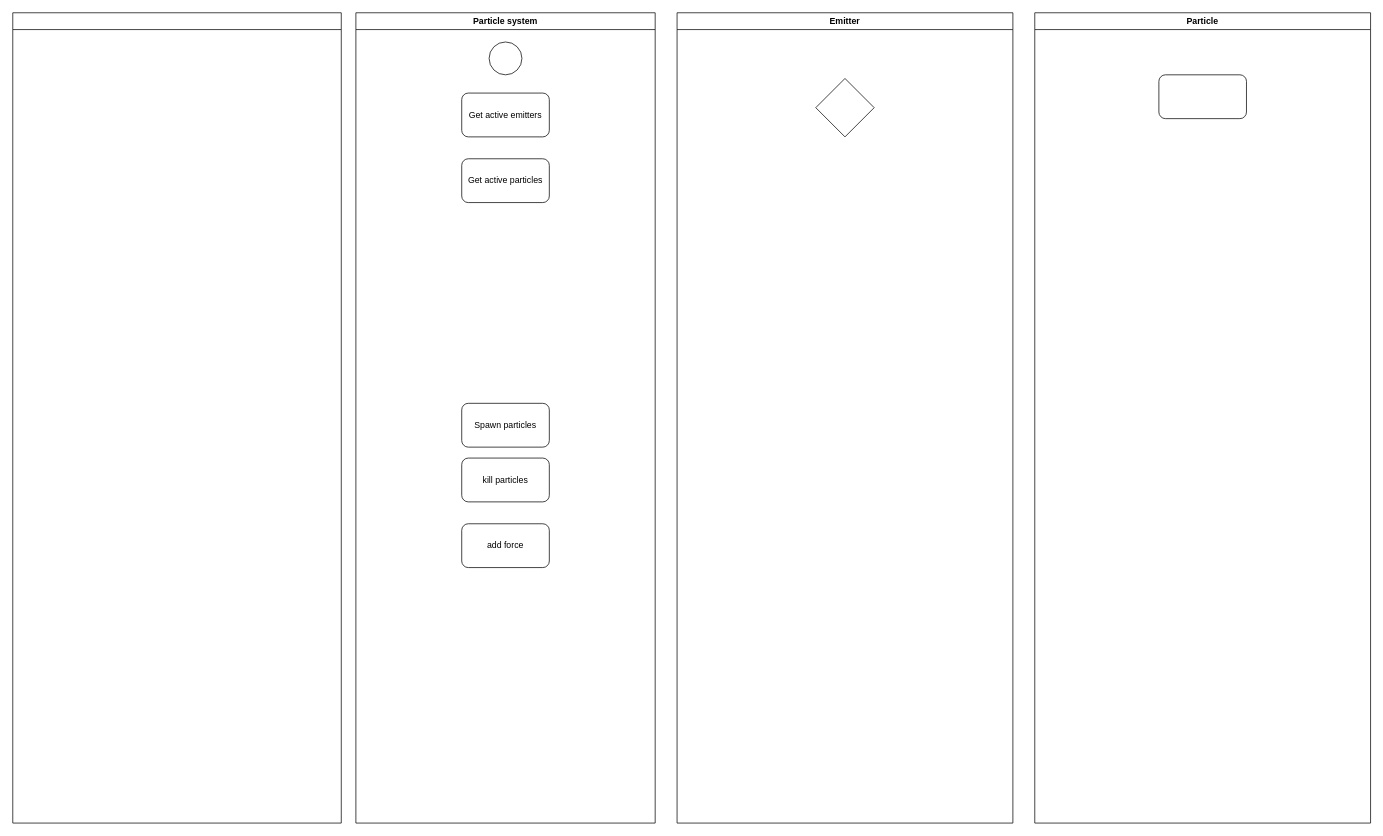
Some shapes in this 1383 by 836 pixel diagram are drawn without their labels. Each missing label, with the centre of its shape:
Add new particles?: point (844, 107)
Effects: point (176, 417)
Update: point (505, 58)
update life-time: point (1202, 96)
